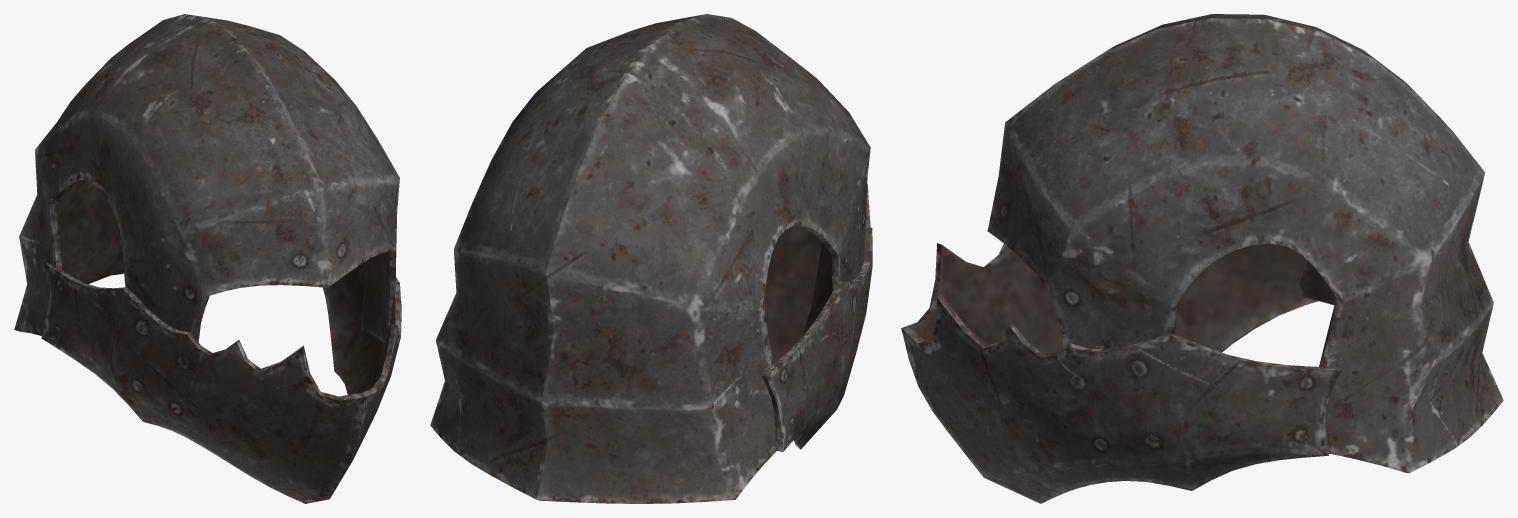
Rendered from sk_gb_uruk_helmet_heavy_e.fbx.
3 views of the same model, side by side, from view 1: azimuth 30°, elevation 25°; view 2: azimuth 150°, elevation 25°; view 3: azimuth 270°, elevation 25° (orthographic). The views are drawn at different scales.
Parts seen in each view (by area): view 1: sk_gb_uruk_helmet_heavy_e; view 2: sk_gb_uruk_helmet_heavy_e; view 3: sk_gb_uruk_helmet_heavy_e.
Part boxes in pixels (<box>): sk_gb_uruk_helmet_heavy_e: <box>14,14,401,503</box>; sk_gb_uruk_helmet_heavy_e: <box>430,14,872,503</box>; sk_gb_uruk_helmet_heavy_e: <box>901,14,1503,503</box>.
Bounding box in the file's own units: 0.2184 × 0.345 × 0.3069.
1 material, 1 textured.
